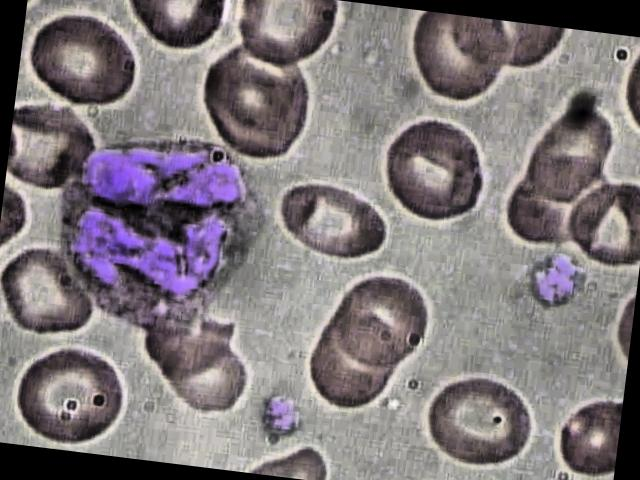Platelets: (520, 244, 590, 316), (253, 386, 313, 440)
RBC: (190, 32, 330, 168), (5, 335, 137, 458), (414, 361, 548, 478), (21, 4, 156, 118), (368, 110, 496, 230), (509, 98, 627, 216), (298, 300, 416, 418), (324, 263, 438, 380), (396, 10, 521, 113), (272, 174, 395, 266), (5, 96, 112, 200), (149, 326, 261, 423), (0, 237, 103, 342), (559, 165, 640, 271), (228, 0, 345, 73), (120, 0, 237, 59)
WBC: (44, 117, 276, 340)
